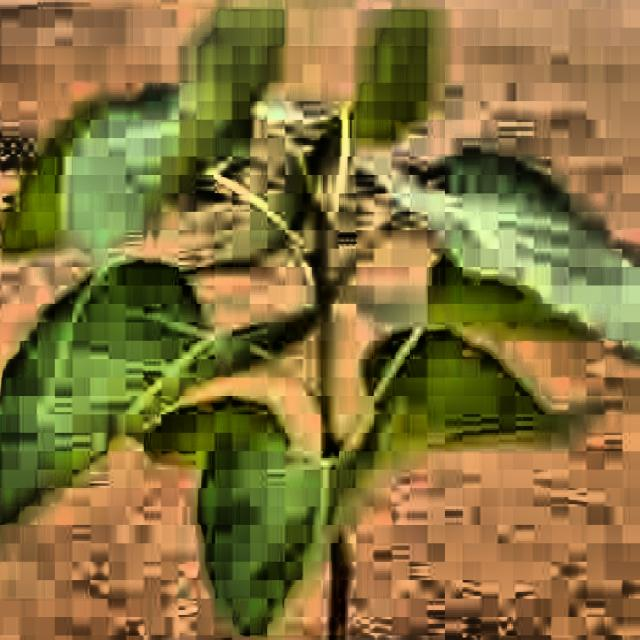Ficus Religiosa-Raavi-: (1, 2, 640, 640)
